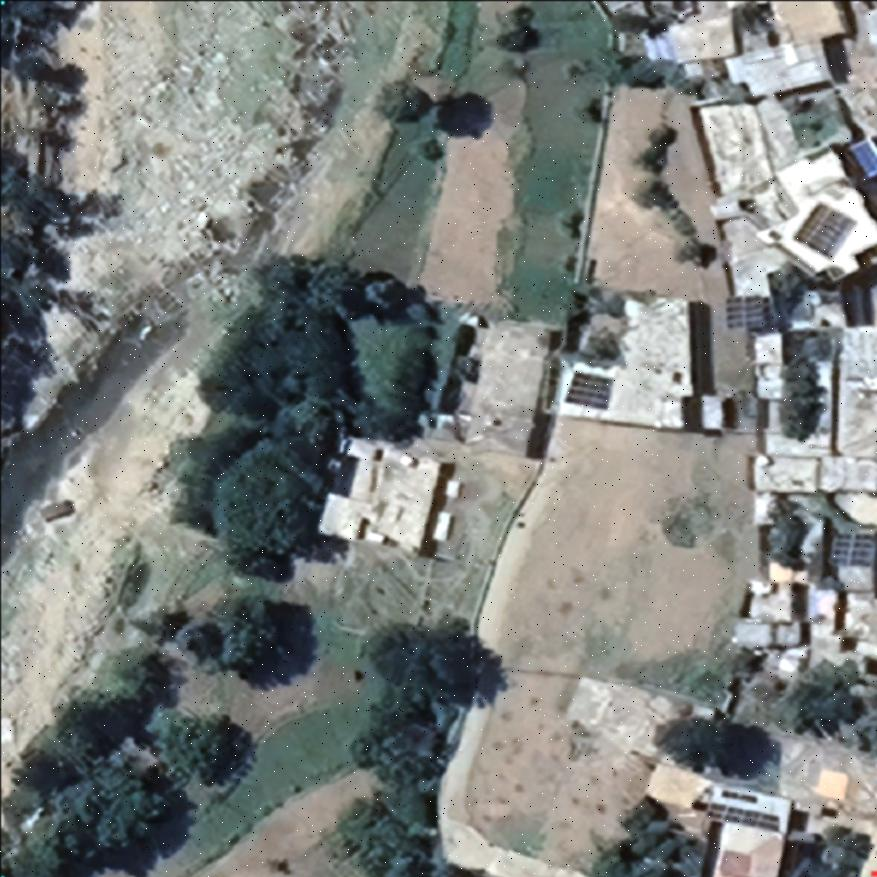Solarpanel: (793, 202, 851, 258), (698, 804, 784, 837), (563, 370, 610, 410), (830, 533, 874, 567), (724, 294, 765, 330), (719, 789, 758, 804)
